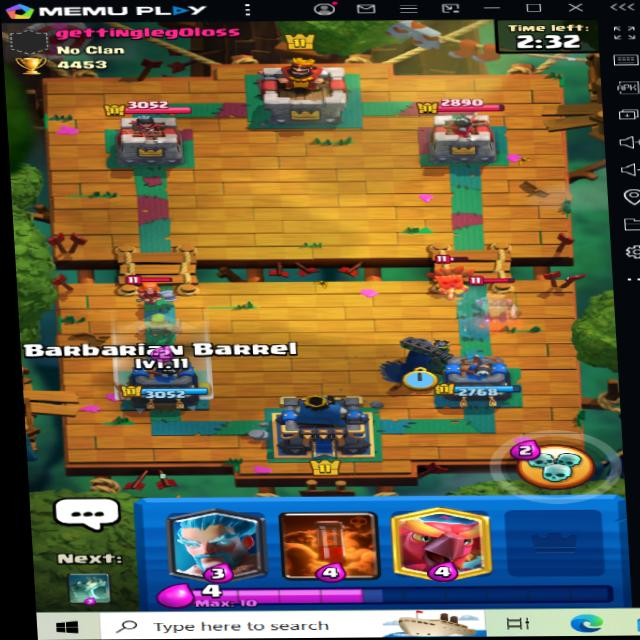dart-goblin: (429, 247, 480, 299)
royal-ghost: (465, 275, 520, 329)
valkyrie: (119, 269, 185, 310)
